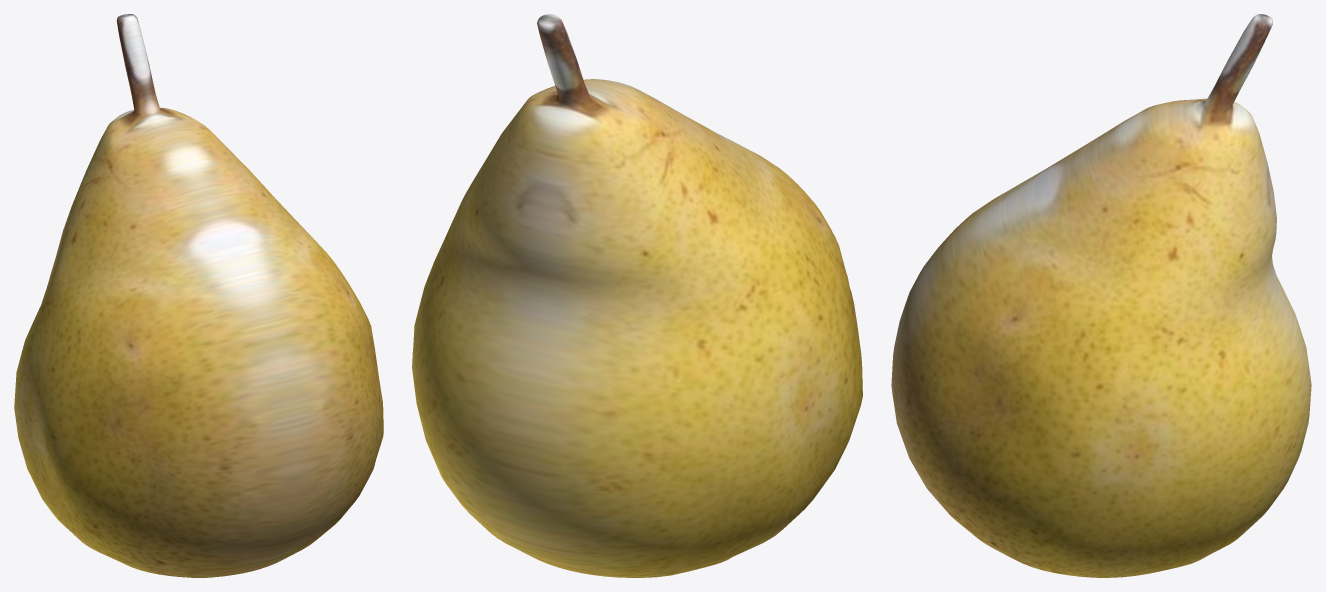
Rendered from Pear.fbx.
The picture shows the model from 3 angles, left to right: view 1: azimuth 30°, elevation 25°; view 2: azimuth 150°, elevation 25°; view 3: azimuth 270°, elevation 25°; orthographic projection. The views are drawn at different scales.
Parts seen in each view (by area): view 1: Cylinder; view 2: Cylinder; view 3: Cylinder.
Boxes of the visible parts, left/top/right/bottom form: Cylinder: left=14, top=14, right=383, bottom=577; Cylinder: left=412, top=14, right=862, bottom=577; Cylinder: left=891, top=14, right=1311, bottom=577.
Bounding box in the file's own units: 210 × 305 × 217.
1 material, 1 textured.
